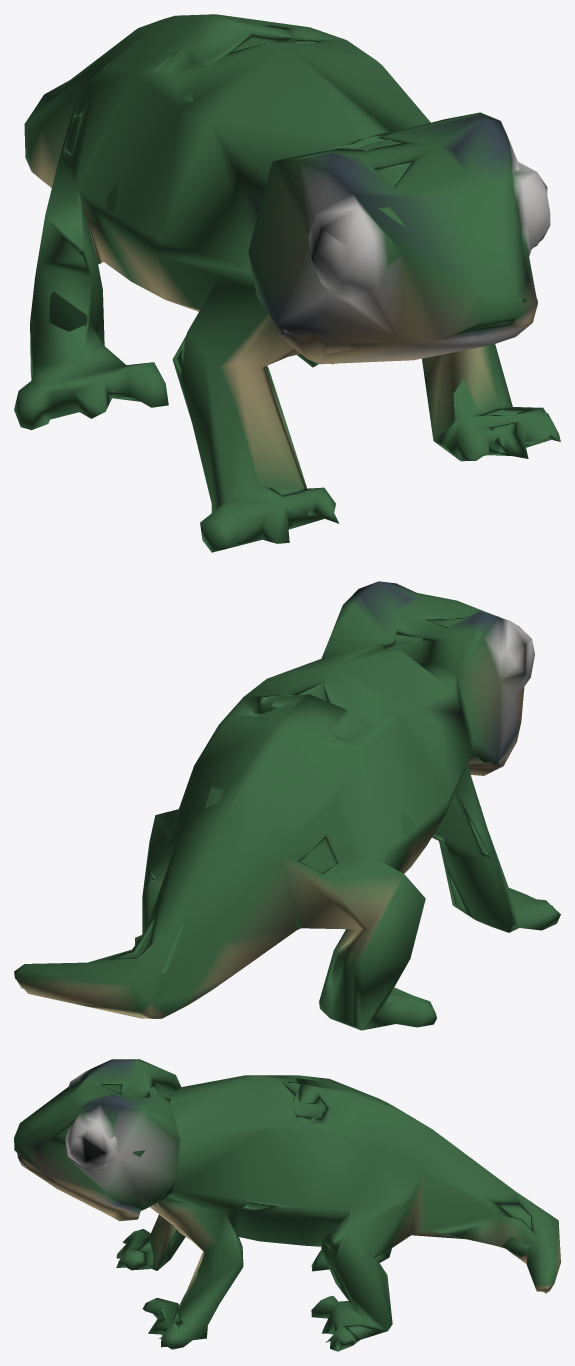
File: gen3d-chameleon-lod1.glb
3 renders of one model, top to bottom at view 1: azimuth 30°, elevation 25°; view 2: azimuth 150°, elevation 25°; view 3: azimuth 270°, elevation 25°, orthographic. The views are drawn at different scales.
Visible parts, largest first — view 1: part_0; view 2: part_0; view 3: part_0.
Boxes of the visible parts, x1,y1,x2,y2 form: part_0: (14, 14, 560, 552); part_0: (14, 581, 560, 1030); part_0: (14, 1059, 560, 1351).
Bounding box in the file's own units: 1.08 × 1 × 2.23.
